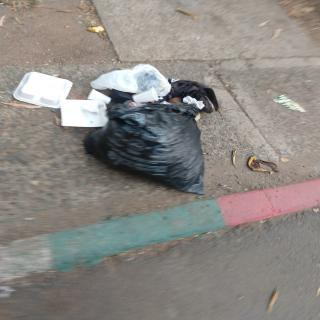Garbage: (81, 91, 220, 200), (93, 61, 173, 100)
